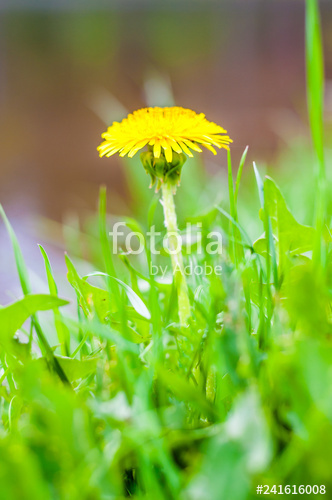dandelion: (106, 103, 235, 160)
